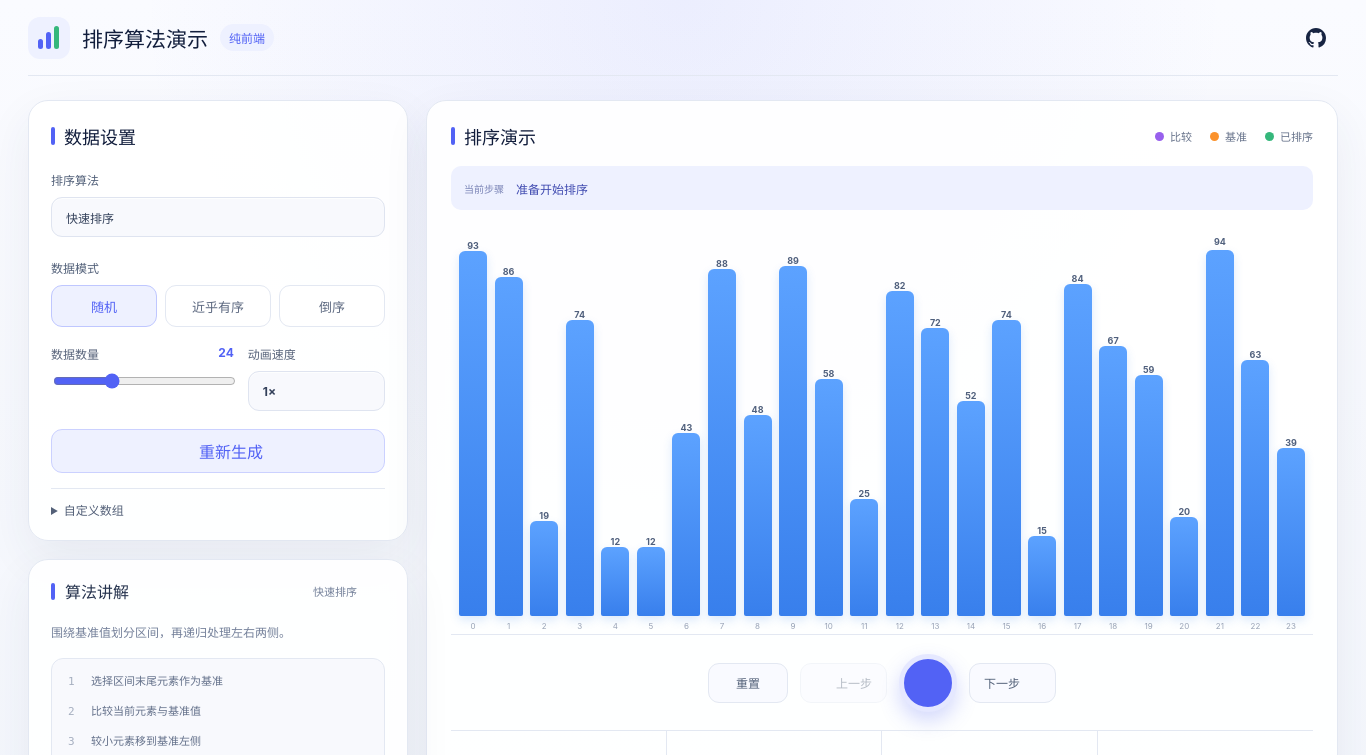
Test: App › lists all ten algorithms in a dropdown and switches the teaching content
Click the dropdown named "排序算法". click: point(90, 218)
box: top-left (51, 197), bottom-right (385, 237)
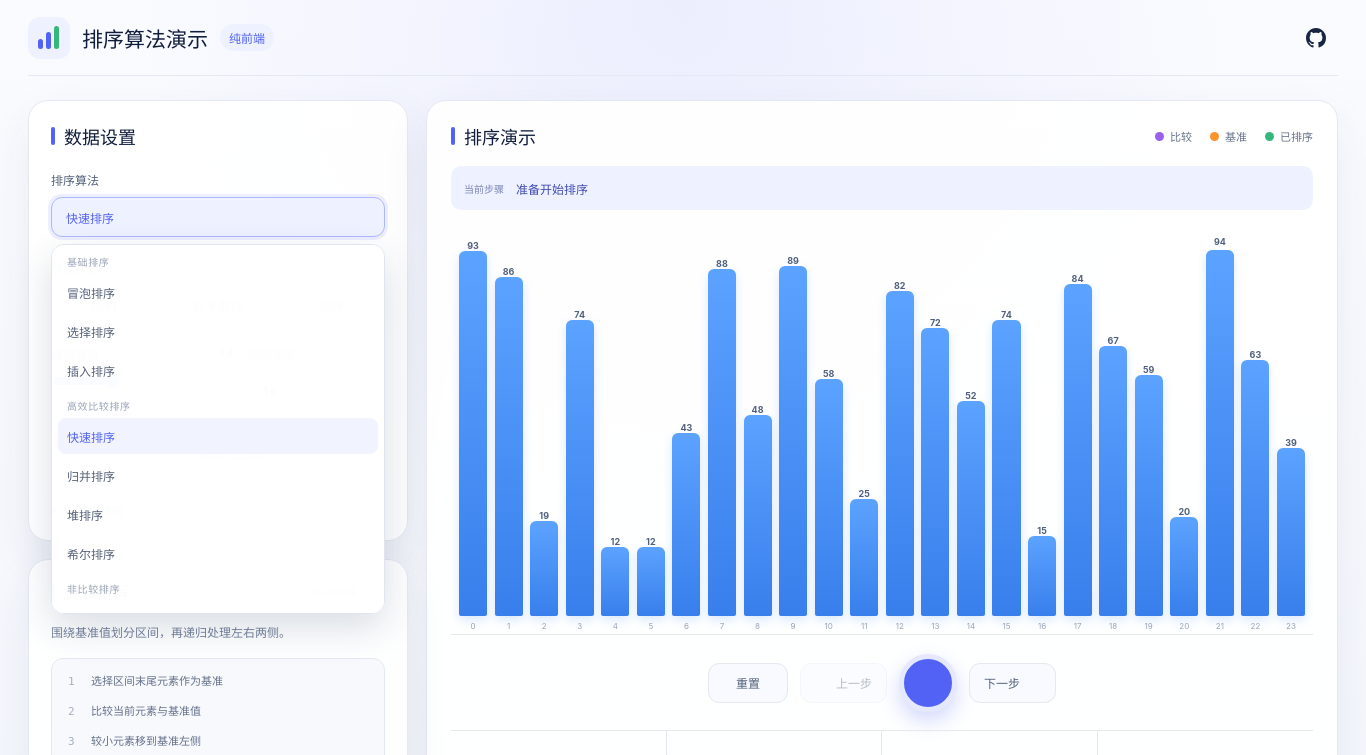
Check: the elements with class "dropdown-group" read "基础排序", "高效比较排序", "非比较排序", in this order, box top-left (67, 256), bottom-right (109, 268); top-left (67, 400), bottom-right (131, 412); top-left (67, 583), bottom-right (120, 595)
Click the option with class "dropdown-option" showing "冒泡排序". click: point(91, 293)
box: top-left (58, 274), bottom-right (378, 310)
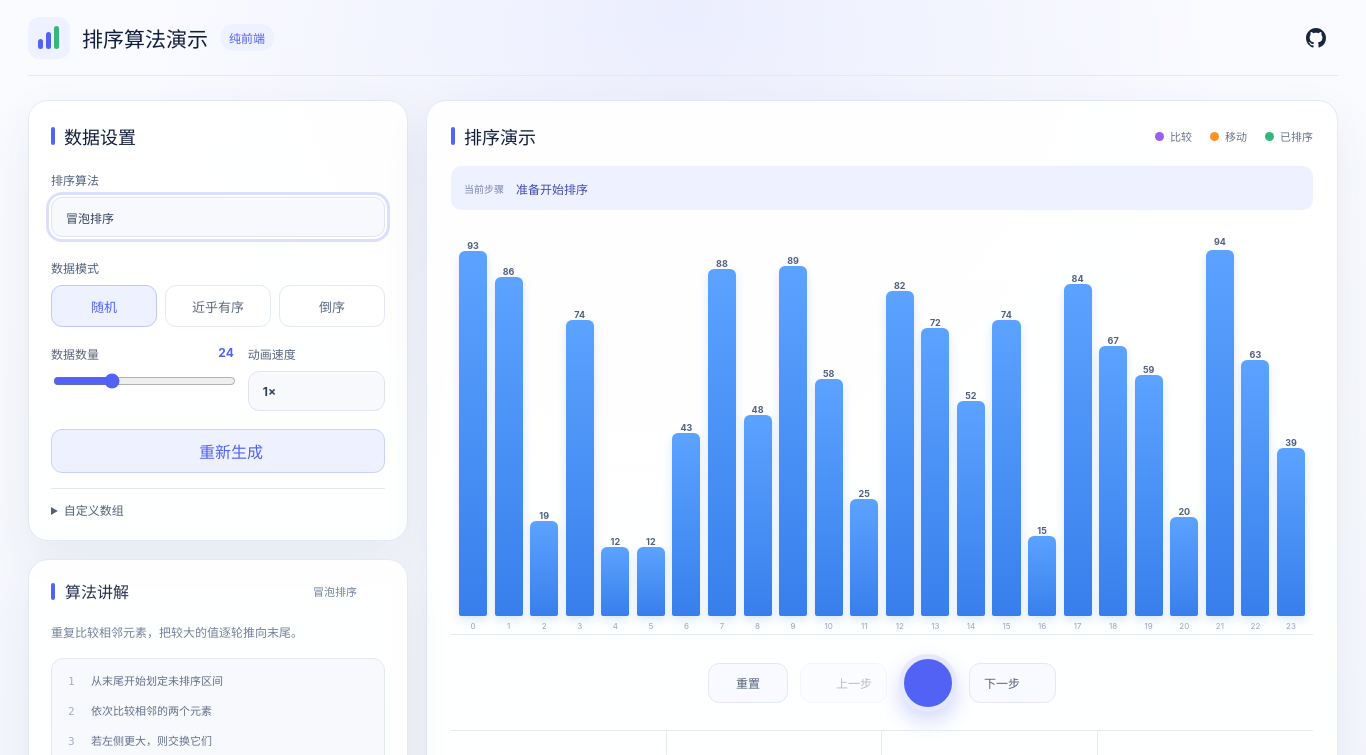
Check: the text "重复比较相邻元素" is shown, box top-left (51, 625), bottom-right (303, 640)
